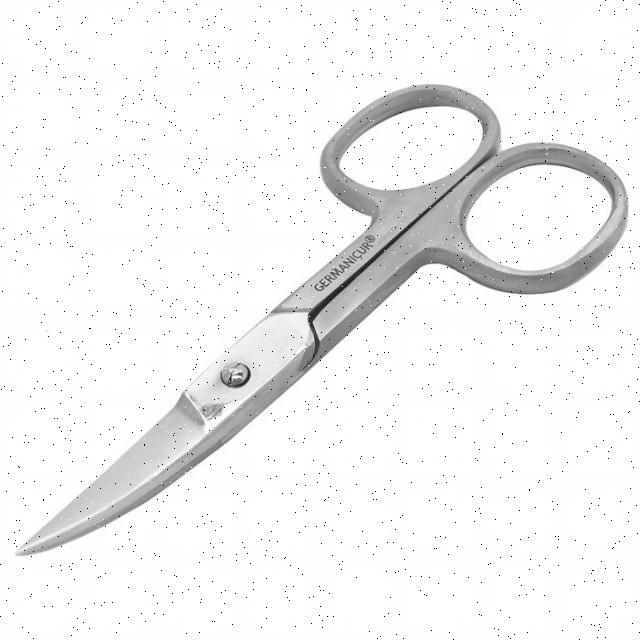scissors: (14, 77, 628, 561)
